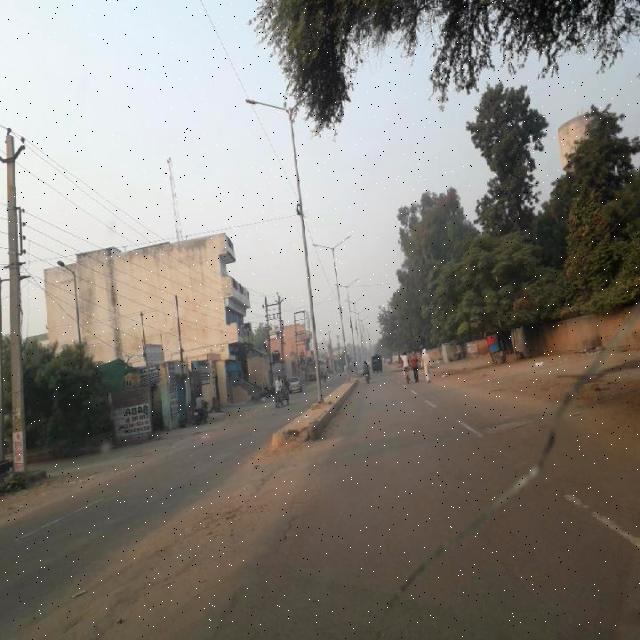D44: (559, 490, 640, 540)
